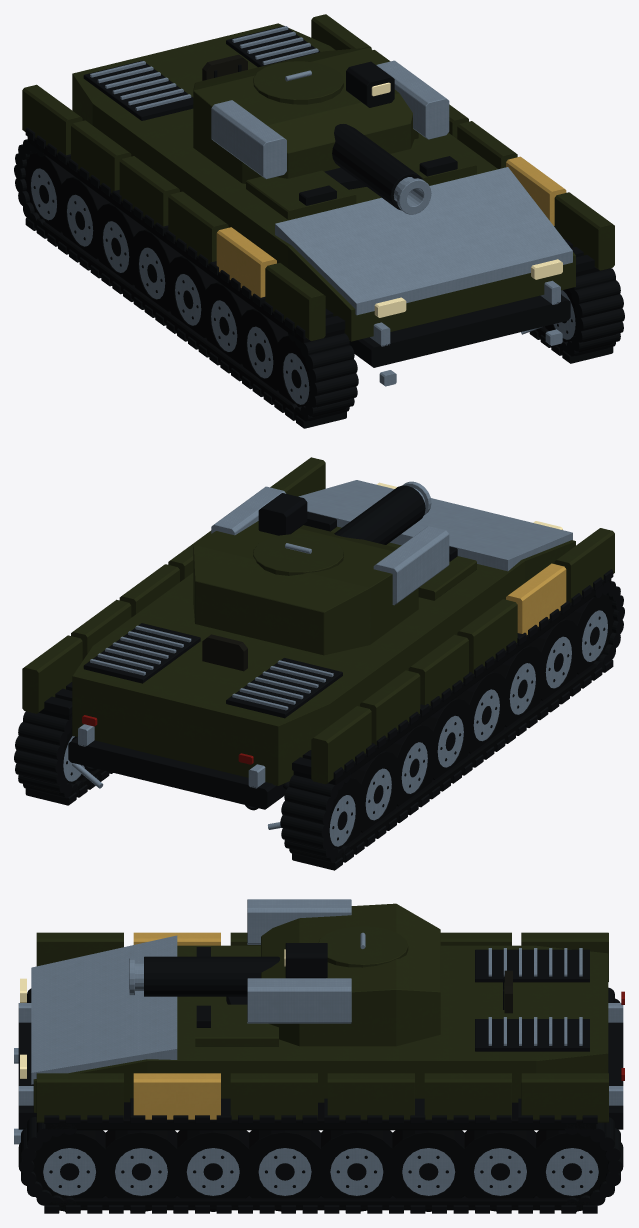
File: titan-lod0.glb
3 views of the same model, one above another, from view 1: azimuth 30°, elevation 25°; view 2: azimuth 150°, elevation 25°; view 3: azimuth 270°, elevation 25° (orthographic).
Parts seen in each view (by area): view 1: body, turret, wheel_5, wheel_1, wheel_2, wheel_4, wheel_6, wheel_3, wheel_0, wheel_7, wheel_15; view 2: body, turret, wheel_1, wheel_2, wheel_5, wheel_3, wheel_4, wheel_6, wheel_7, wheel_0, wheel_8; view 3: body, turret, wheel_10, wheel_14, wheel_13, wheel_12, wheel_11, wheel_9, wheel_8, wheel_15.
Part boxes in pixels (x1,y1,x2,y2): body: (14,14,624,428); turret: (193,47,449,214); wheel_5: (202,282,254,364); wheel_1: (57,176,110,258); wheel_2: (94,203,146,285); wheel_4: (166,256,218,337); wheel_6: (238,308,288,390); wheel_3: (129,229,182,311); wheel_0: (24,153,74,232); wheel_7: (275,335,349,420); wheel_15: (545,289,615,355); body: (14,457,624,870); turret: (193,481,449,655); wheel_1: (350,750,400,832); wheel_2: (384,724,437,806); wheel_5: (492,645,545,727); wheel_3: (420,697,473,779); wheel_4: (456,671,509,753); wheel_6: (528,618,581,700); wheel_7: (564,595,614,674); wheel_0: (289,777,364,862); wheel_8: (23,725,91,797); body: (14,932,624,1213); turret: (129,899,440,1046); wheel_10: (385,1130,472,1211); wheel_14: (97,1130,184,1211); wheel_13: (169,1130,256,1211); wheel_12: (241,1130,328,1211); wheel_11: (313,1130,400,1211); wheel_9: (457,1130,544,1211); wheel_8: (528,1130,608,1211); wheel_15: (33,1130,112,1211).
Size of the model in its own units: 2.98 by 1.96 by 5.11.
8 materials, 7 textured.
